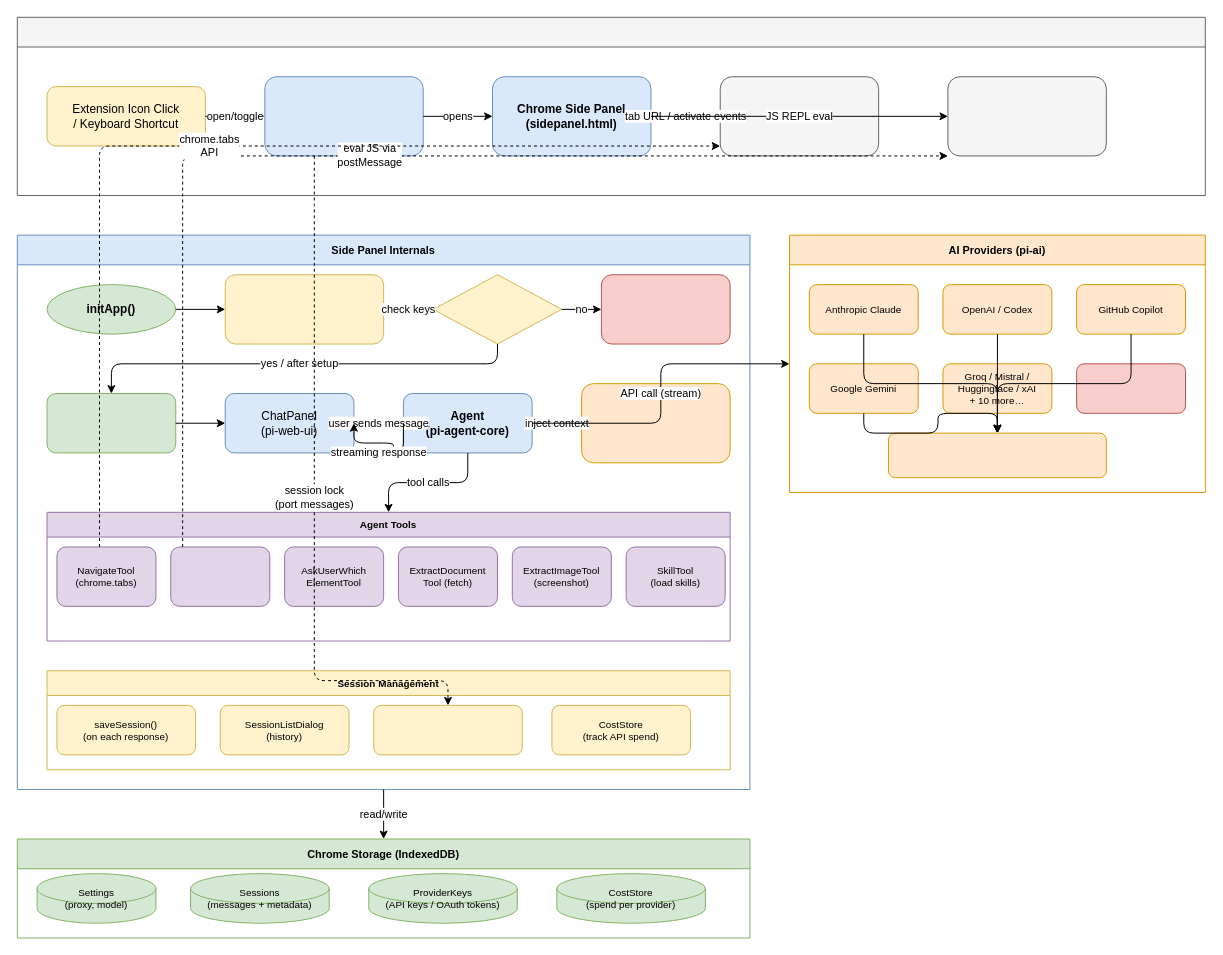
This 1223x955 diagram has some shape labels left out. Here are the shapes that lost their labels. From the top down, the box of each, then its label:
(264, 76, 423, 156): Background Service Worker
(16, 16, 1205, 196): Chrome Browser
(719, 76, 879, 156): Active Tab (Web Page)
(947, 76, 1106, 156): Sandbox iframe (sandbox.html)
(224, 274, 384, 344): SitegeistAppStorage (settings, sessions, providerKeys, costs)
(432, 274, 562, 344): Has API Key?
(600, 274, 730, 344): WelcomeSetupDialog + Settings Dialog + ApiKey/OAuth Dialog
(1076, 363, 1186, 413): OAuth (PKCE / Device Code Flow)
(46, 393, 176, 453): createAgent() (with tools)
(581, 383, 730, 463): System Prompt + NavigationMessage (current URL/tab)
(888, 432, 1106, 478): resolveApiKey() (refresh token if expired)
(170, 546, 270, 606): ReplTool (JS sandbox)
(373, 704, 522, 755): Session Locking (multi-window via port)
